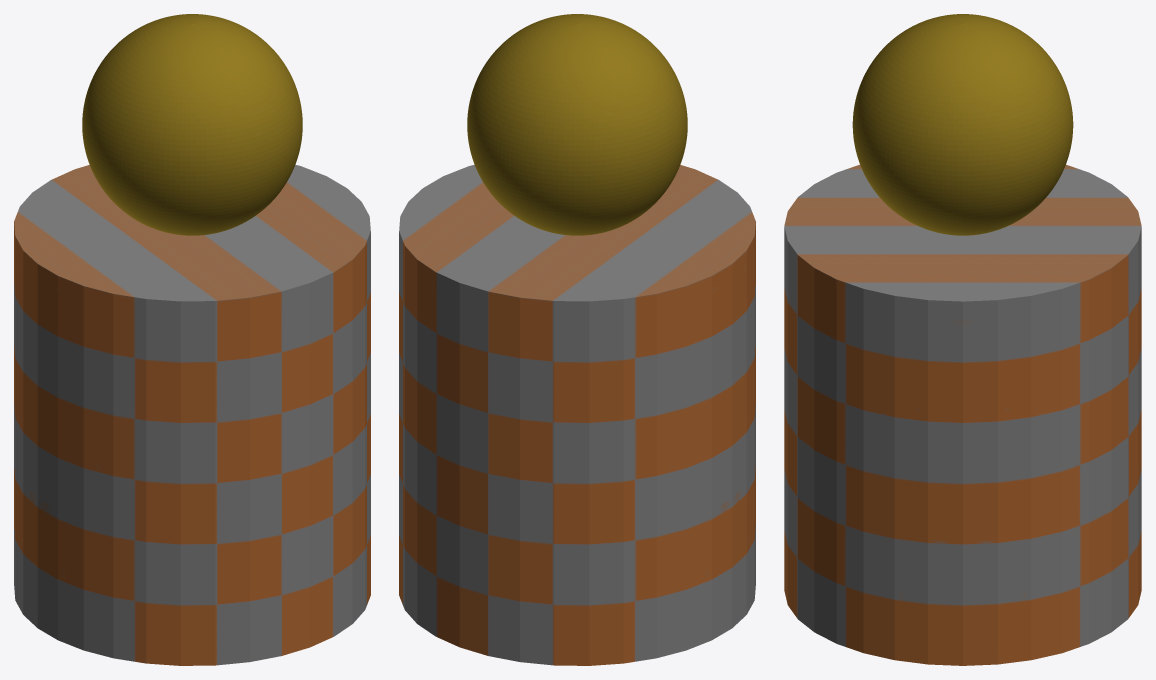
File: BOD5_BMC3_BCC0_BPT4_FRC0_HEA0_HMC4_HCC0_HPT0_ELT0_ERT0_ELL0_ERL0_AP0_AAL0_AAR0_BEK0.fbx
3 views of the same model, side by side, from view 1: azimuth 30°, elevation 25°; view 2: azimuth 150°, elevation 25°; view 3: azimuth 270°, elevation 25° (orthographic).
Parts seen in each view (by area): view 1: Body, Head; view 2: Body, Head; view 3: Body, Head.
Boxes of the visible parts, box(x1,y1,x2,y2) form: Body: box(14, 164, 370, 665); Head: box(82, 14, 302, 235); Body: box(399, 164, 755, 665); Head: box(467, 14, 687, 235); Body: box(784, 164, 1141, 665); Head: box(852, 14, 1073, 235).
Bounding box in the file's own units: 80 × 140 × 80.
Materials: 2 (2 with a texture image).
